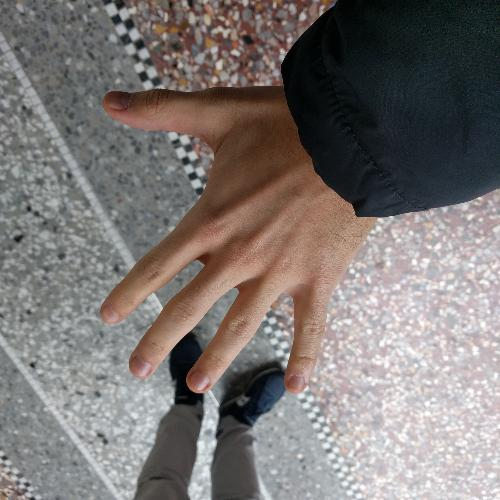paper: (90, 78, 391, 406)
